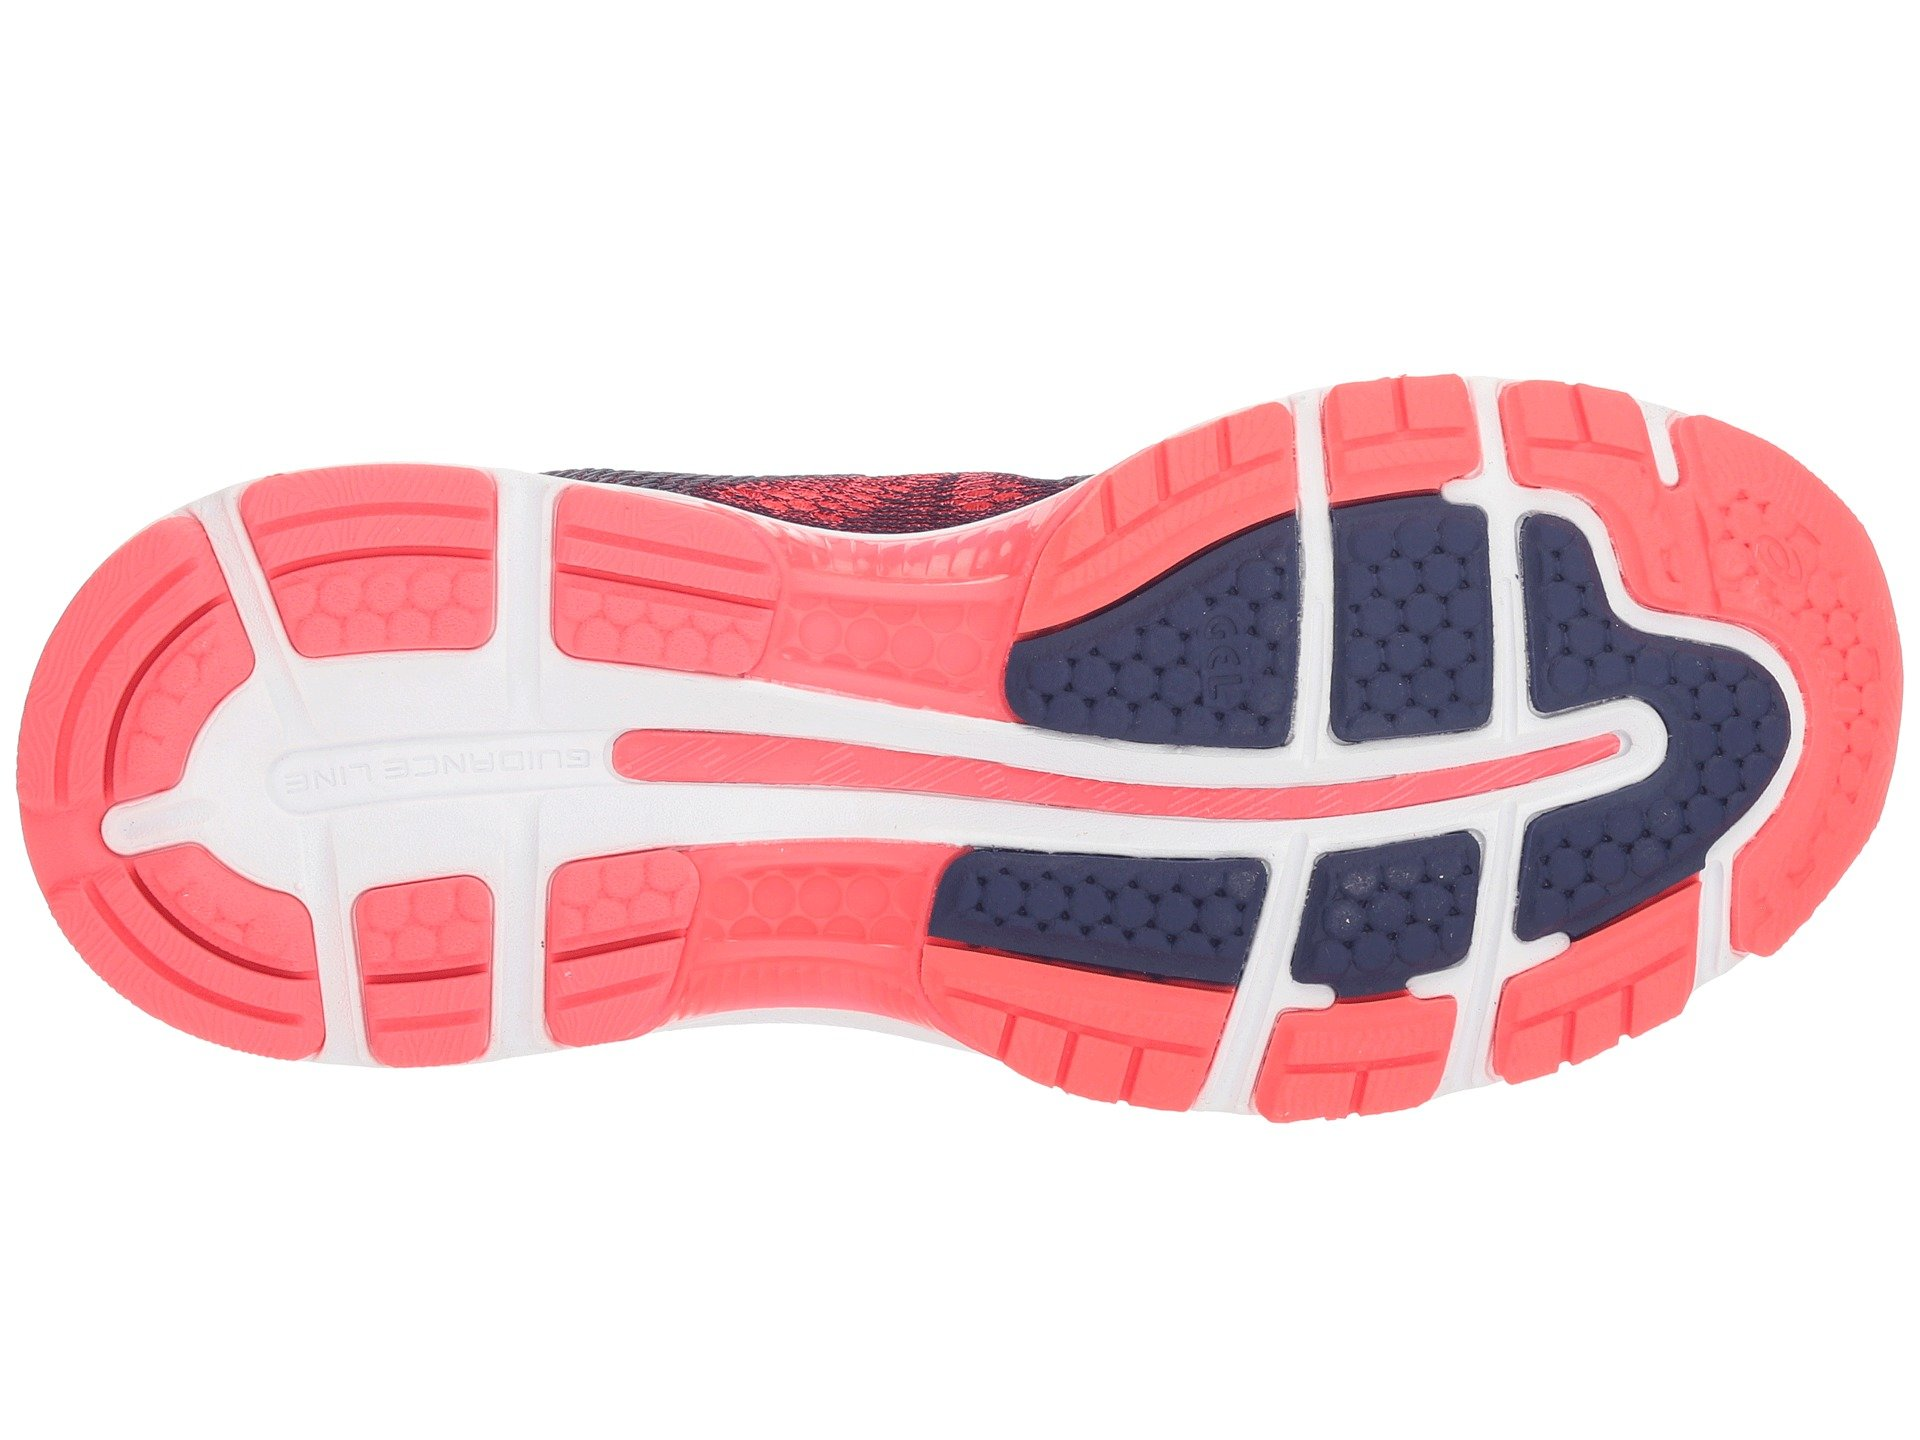circle: (1341, 209, 1491, 352), (1335, 498, 1448, 605)
exclude: (454, 0, 1172, 175), (623, 640, 999, 768)
ribbon: (372, 256, 701, 560), (703, 286, 986, 546), (110, 280, 376, 538), (1014, 340, 1220, 540), (1454, 324, 1621, 489)
text: (1172, 239, 1276, 340)
